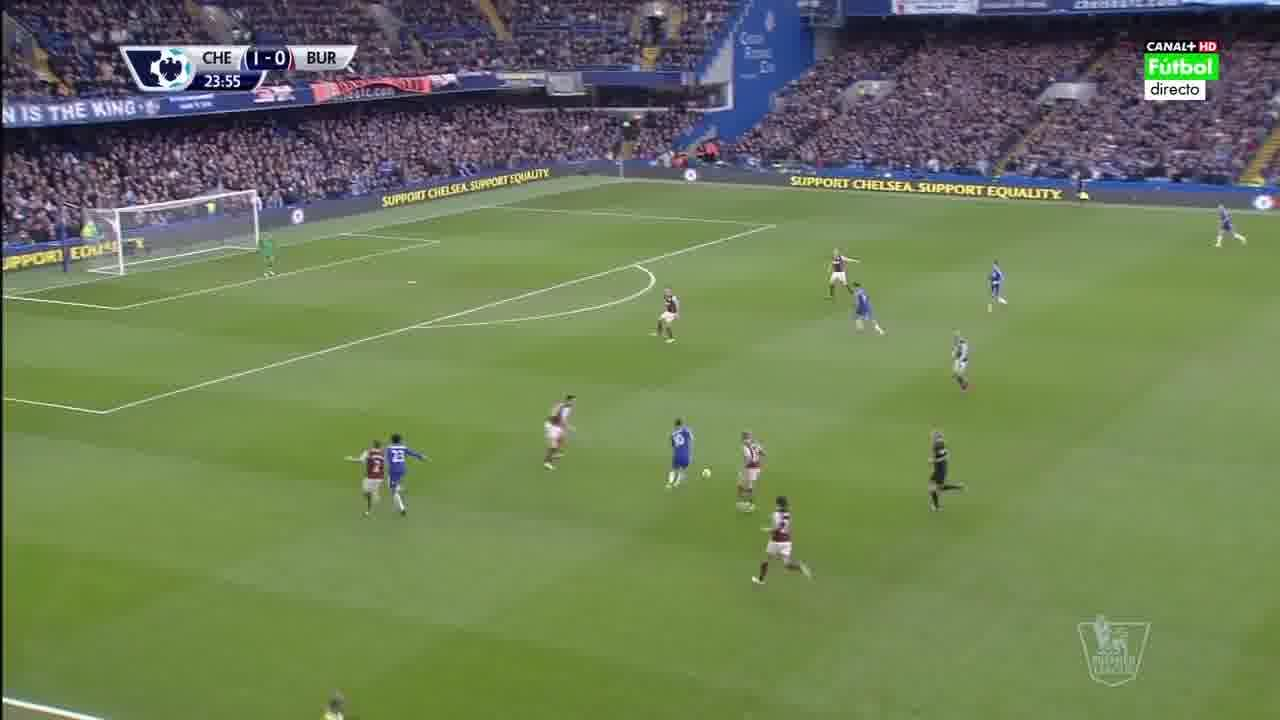football: (700, 466, 712, 480)
